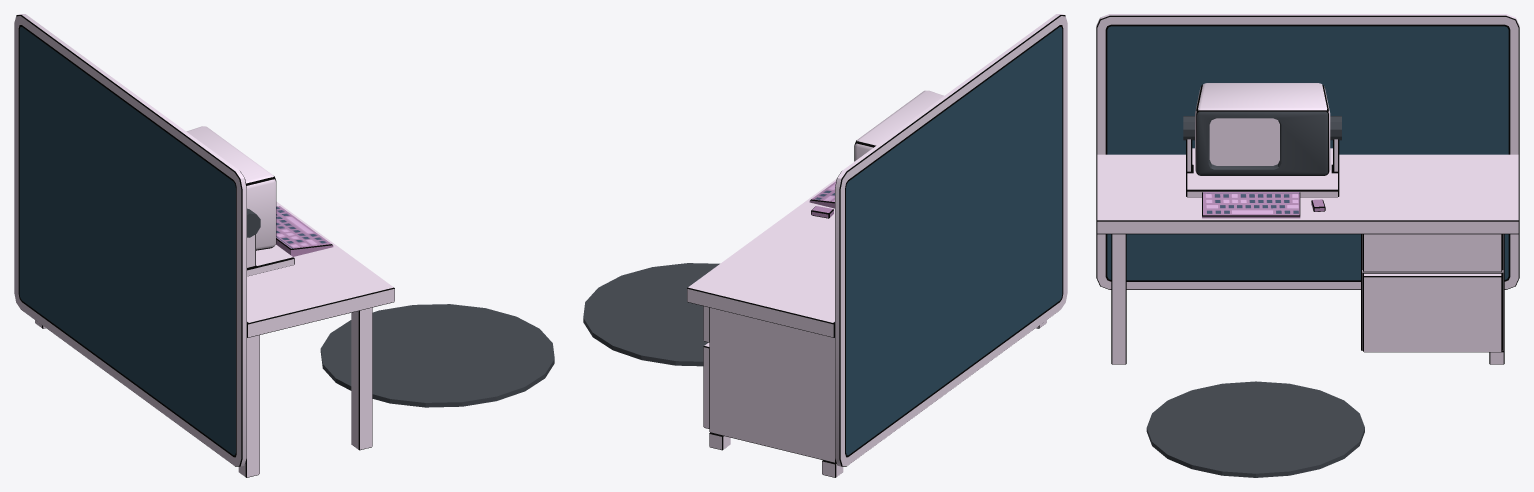
Rendered from Office.fbx.
3 renders of one model, left to right at view 1: azimuth 30°, elevation 25°; view 2: azimuth 150°, elevation 25°; view 3: azimuth 270°, elevation 25°, orthographic. The views are drawn at different scales.
Parts seen in each view (by area): view 1: Desk; view 2: Desk; view 3: Desk.
Boxes of the visible parts, x1,y1,x2,y2 form: Desk: (14, 14, 554, 477); Desk: (583, 14, 1067, 477); Desk: (1096, 14, 1519, 477).
Size of the model in its own units: 5.44 by 4.24 by 5.6.
